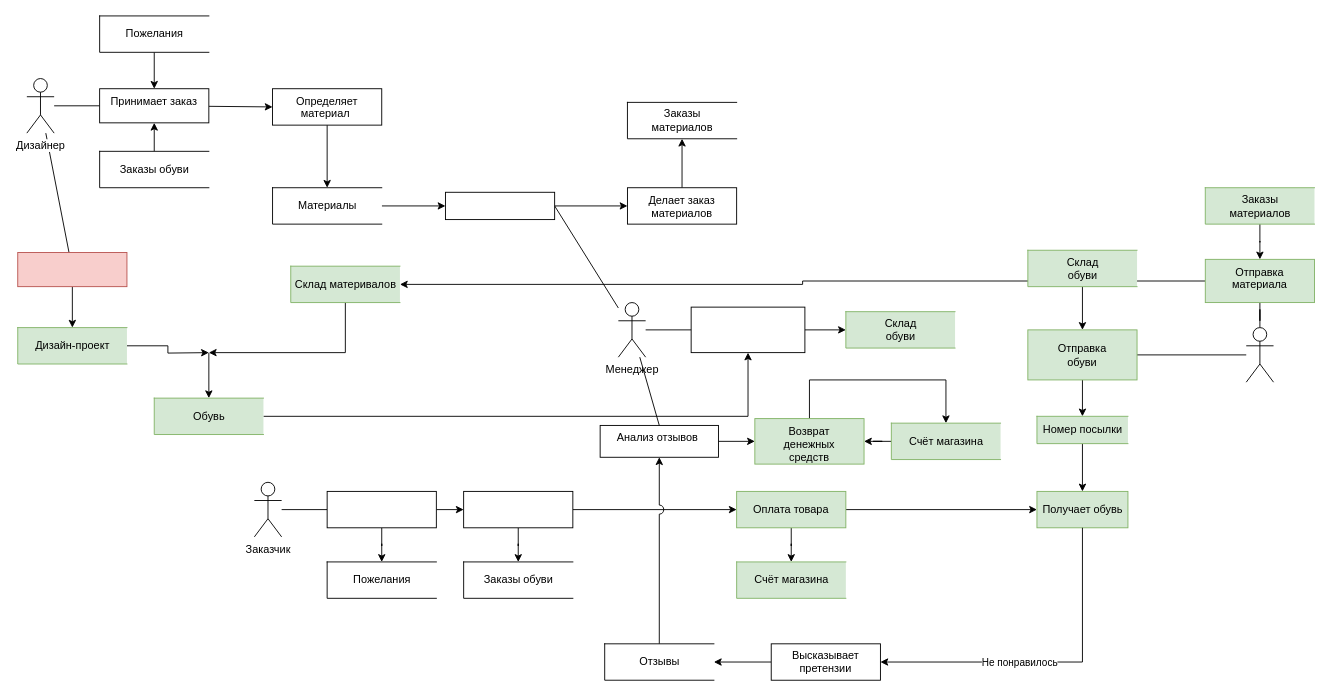
The diagram is 1330 pixels wide and 696 high, and some of its shapes have lost their labels. Each missing label, with the box of its shape:
Высказывает пожелания: (326, 490, 436, 528)
Делает заказ обуви: (463, 490, 573, 528)
Закупка материала: (445, 191, 555, 220)
Поставщик: (1245, 327, 1274, 382)
Разработка индивидуального номера для обуви: (690, 306, 805, 353)
Создаёт дизайн-проект: (17, 252, 127, 287)
